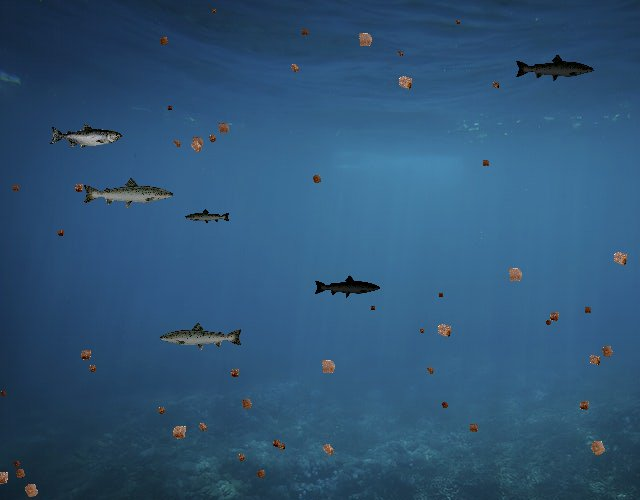Fish: (81, 176, 175, 210), (158, 321, 244, 352), (515, 53, 596, 83), (49, 123, 122, 150), (314, 274, 382, 298), (185, 208, 232, 225)
Pellet: (165, 419, 193, 447), (184, 134, 209, 159), (316, 438, 340, 462), (10, 463, 31, 484), (169, 135, 186, 152), (84, 361, 100, 377), (488, 78, 502, 92), (542, 317, 555, 330), (208, 6, 218, 16)
